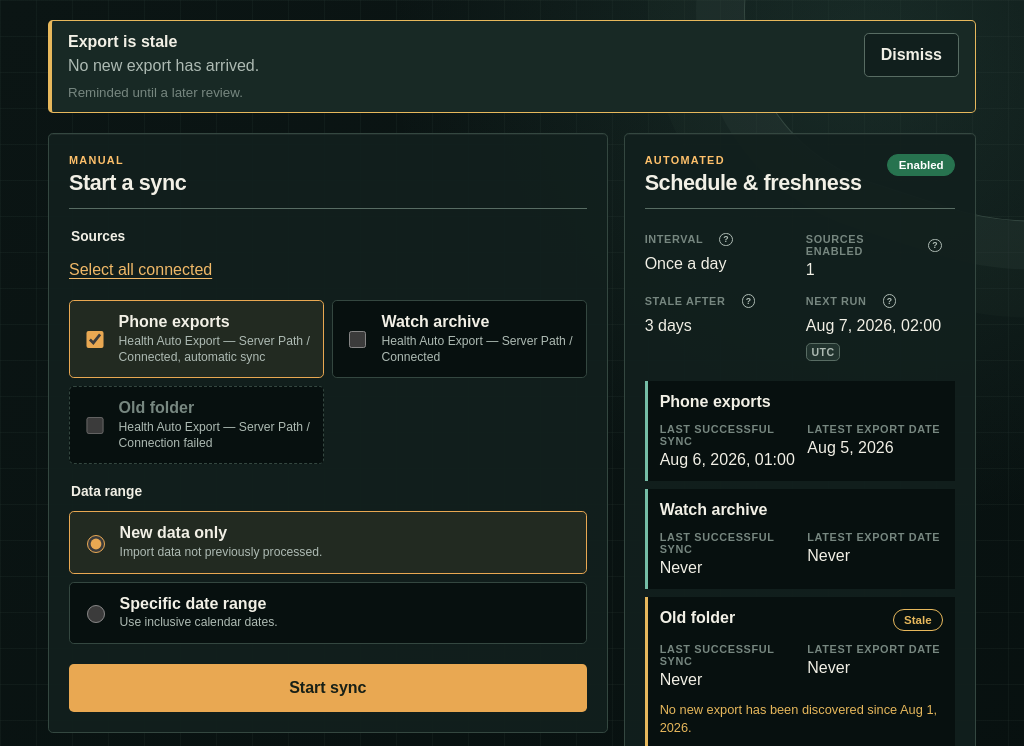
Scenario: DataSync › defaults once to connected automatic sources and posts the exact incremental body with CSRF
Expected: the checkbox labelled "Phone exports" is checked, x1=86 y1=331 x2=104 y2=348
Expected: the checkbox labelled "Watch archive Health Auto Export — Server Path / Connected" is not checked, x1=349 y1=331 x2=366 y2=348
Click the button "Start sync".
click(328, 688)  # box x1=69 y1=664 x2=587 y2=712
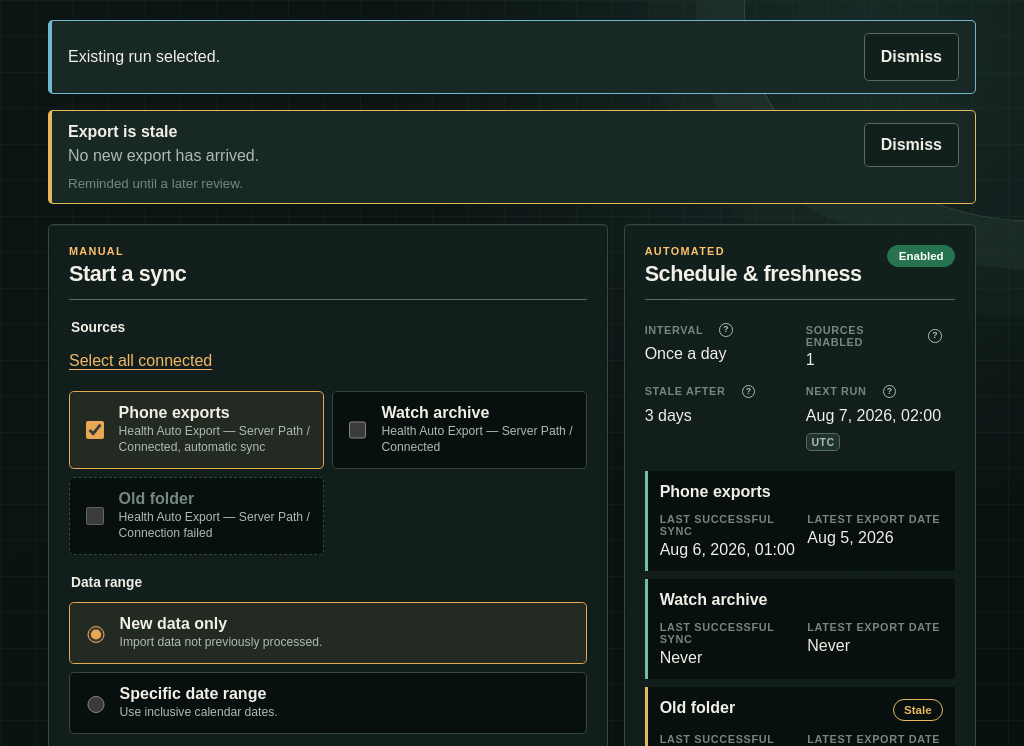
Result: the text "Existing run selected." is shown at x1=68 y1=46 x2=220 y2=68
